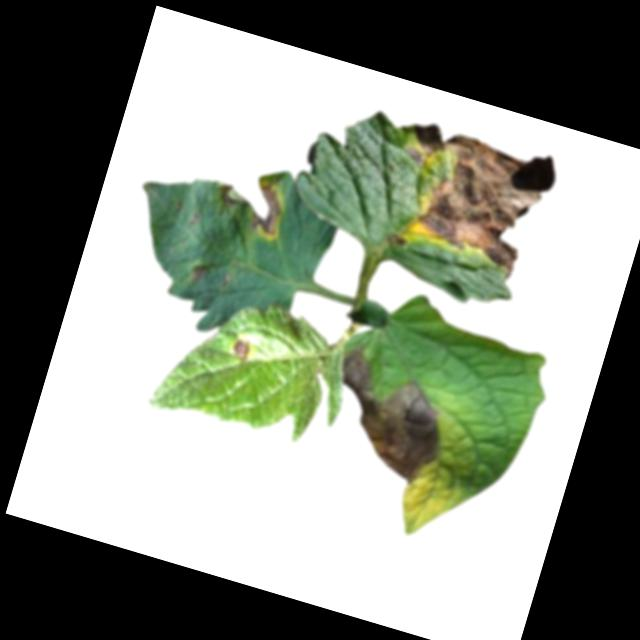Early_blight: (376, 114, 560, 284), (316, 339, 462, 488), (208, 169, 291, 242), (228, 335, 256, 363), (188, 260, 211, 280)
